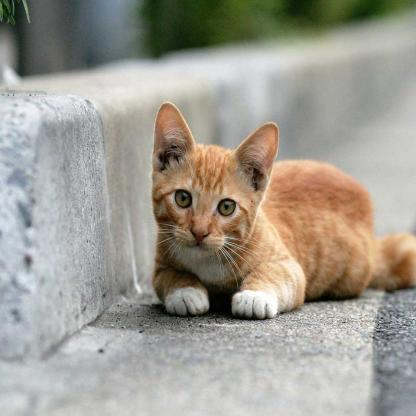cat: (144, 109, 375, 314)
